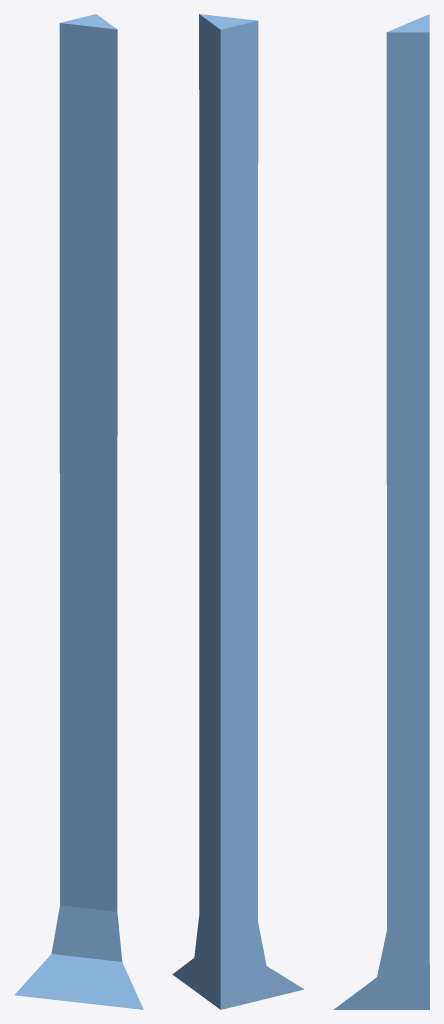
The model's file is Wall_corner_outer.FBX.
The picture shows the model from 3 angles, left to right: view 1: azimuth 30°, elevation 25°; view 2: azimuth 210°, elevation 25°; view 3: azimuth 270°, elevation 25°; orthographic projection.
Parts seen in each view (by area): view 1: Wall_corner_outer; view 2: Wall_corner_outer; view 3: Wall_corner_outer.
Part boxes in pixels (bbox=[...]): Wall_corner_outer: bbox=[14, 14, 143, 1009]; Wall_corner_outer: bbox=[172, 14, 304, 1009]; Wall_corner_outer: bbox=[333, 14, 429, 1009].
Size of the model in its own units: 0.2688 by 3 by 0.269.
